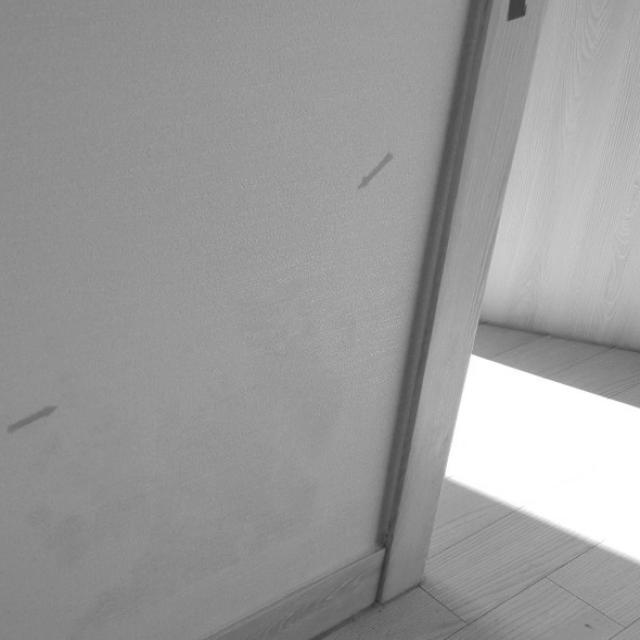stain marks: (4, 282, 395, 640)
